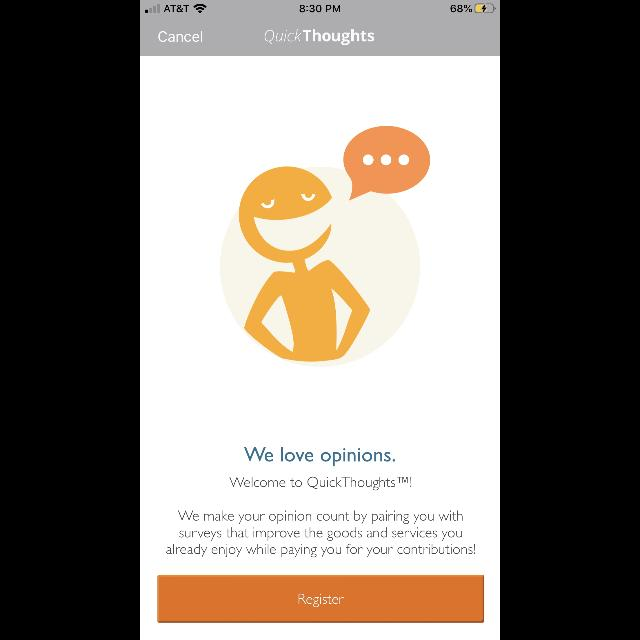image: (220, 126, 430, 368)
text: (167, 510, 476, 558), (244, 447, 396, 467), (229, 477, 411, 491), (264, 29, 374, 45), (159, 32, 203, 42)
textbutton: (158, 575, 484, 623)
uppertaskbar: (140, 0, 500, 14)
